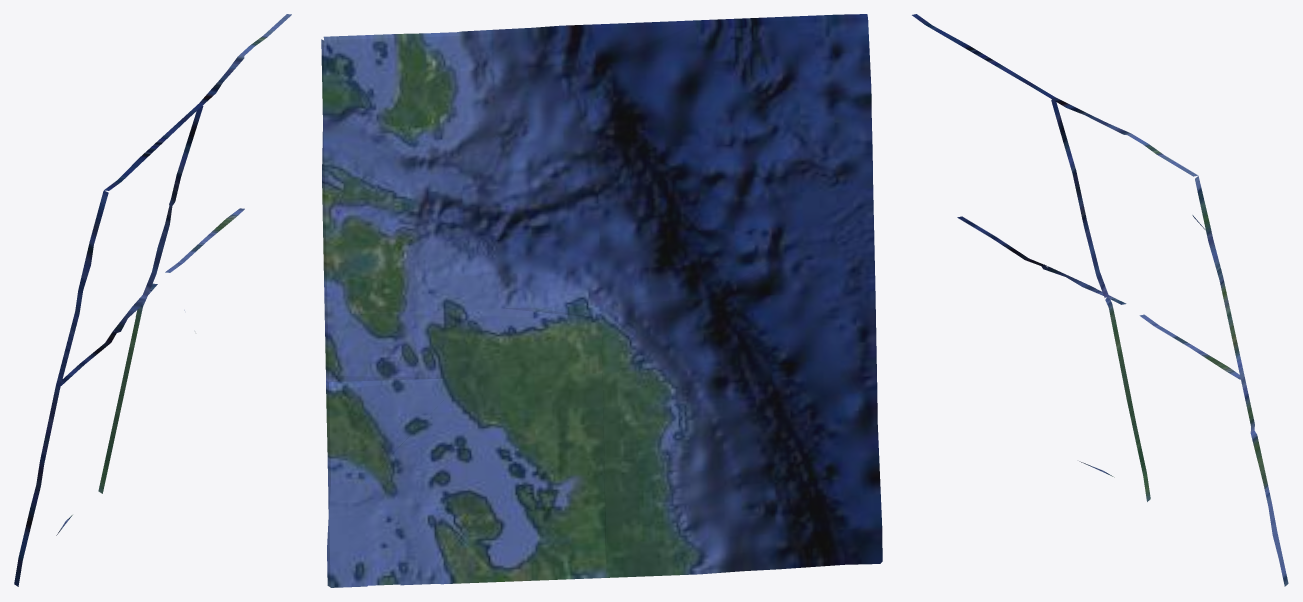
3 renders of one model, left to right at view 1: azimuth 30°, elevation 25°; view 2: azimuth 150°, elevation 25°; view 3: azimuth 270°, elevation 25°, orthographic. The views are drawn at different scales.
Size of the model in its own units: 288665 by 309386 by 240577.
1 material, 1 textured.
